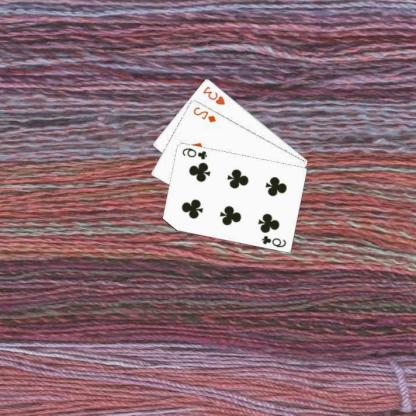2D: (192, 104, 219, 123)
3H: (201, 84, 228, 106)
6C: (260, 232, 288, 249), (181, 145, 210, 161)
